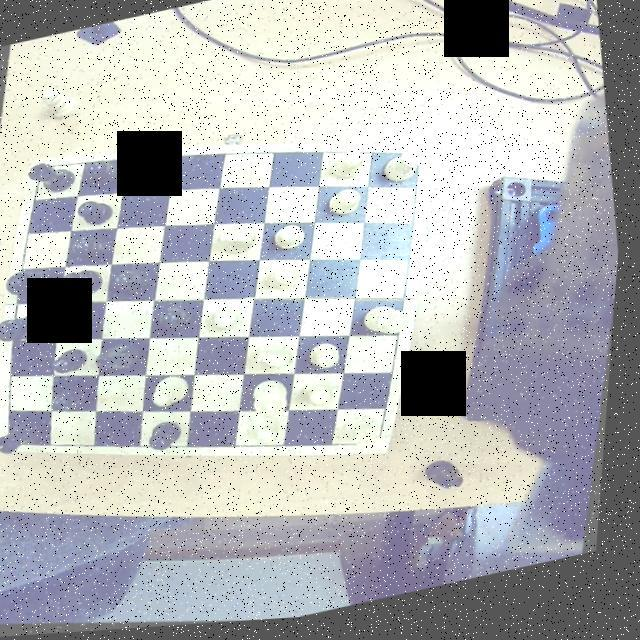chess-table-corners: (402, 148, 436, 180), (370, 431, 402, 462), (2, 430, 36, 456), (29, 158, 59, 185)
